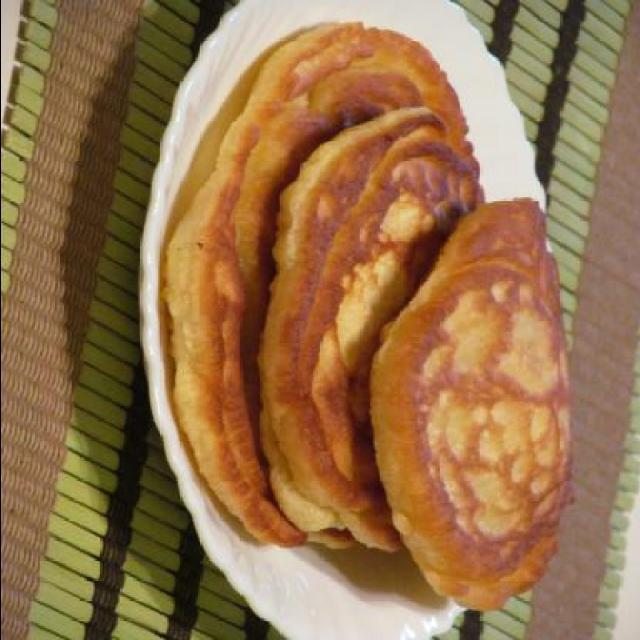Pancake: (161, 21, 488, 553), (372, 196, 572, 612)
